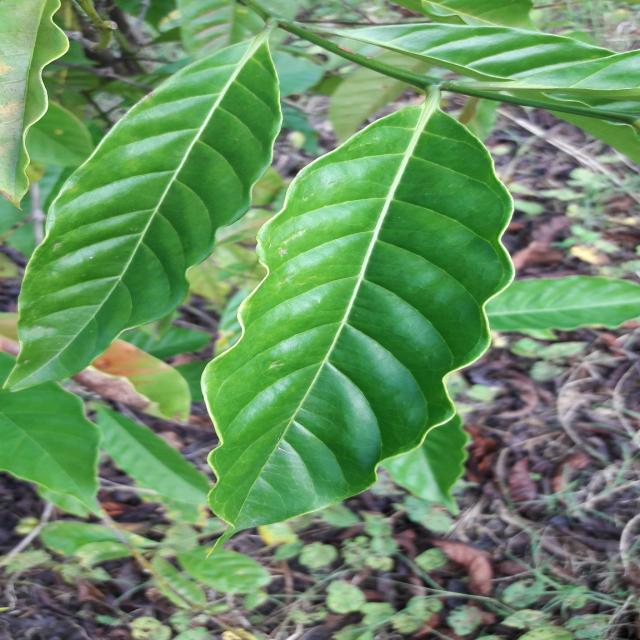Sanas: (200, 104, 514, 532)
